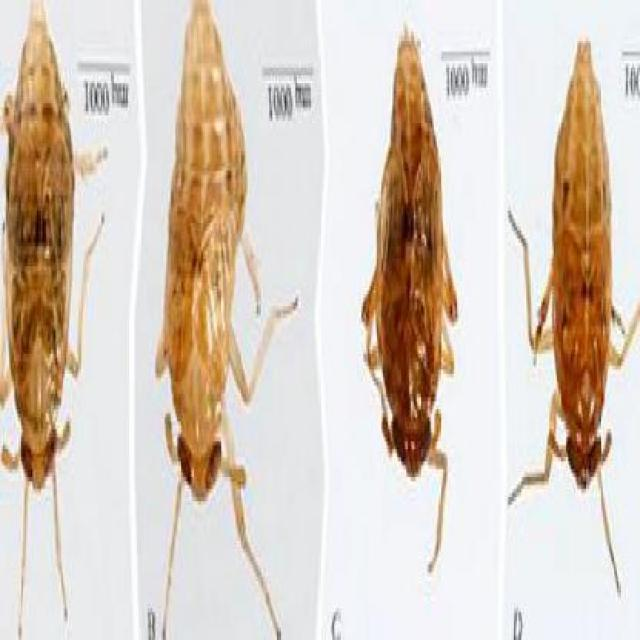brown-planthopper: (162, 8, 250, 501), (0, 19, 78, 492), (373, 22, 441, 484), (548, 36, 612, 490)
